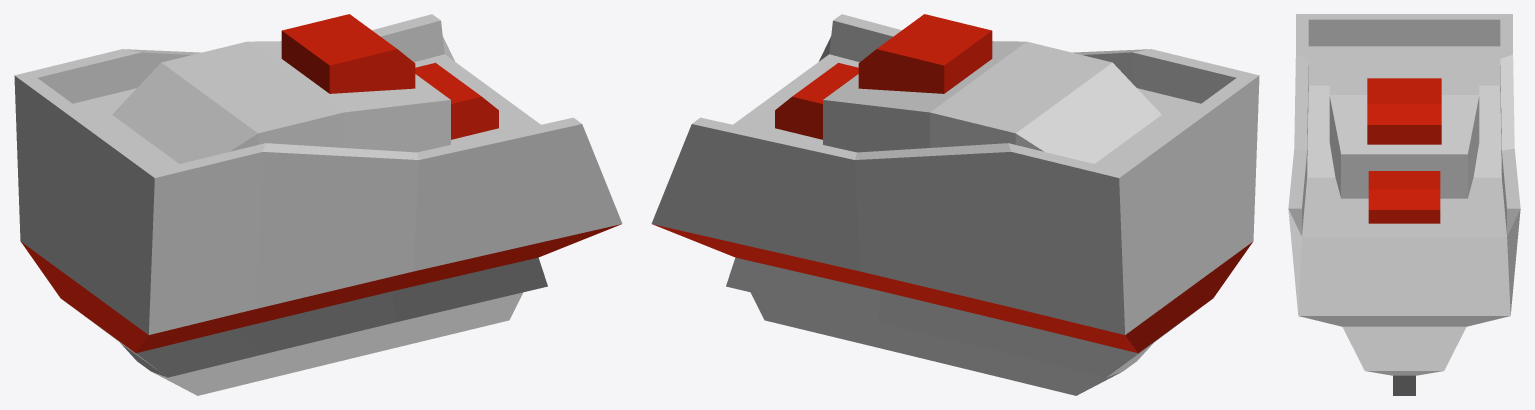
File: BoatBack.fbx
3 renders of one model, left to right at view 1: azimuth 30°, elevation 25°; view 2: azimuth 150°, elevation 25°; view 3: azimuth 270°, elevation 25°, orthographic. The views are drawn at different scales.
Visible parts, largest first — view 1: Cube; view 2: Cube; view 3: Cube.
Part boxes in pixels (box(x1,y1,x2,y2)): Cube: box(14, 14, 622, 395); Cube: box(651, 14, 1259, 395); Cube: box(1288, 14, 1520, 395).
Size of the model in its own units: 840 by 466 by 539.
